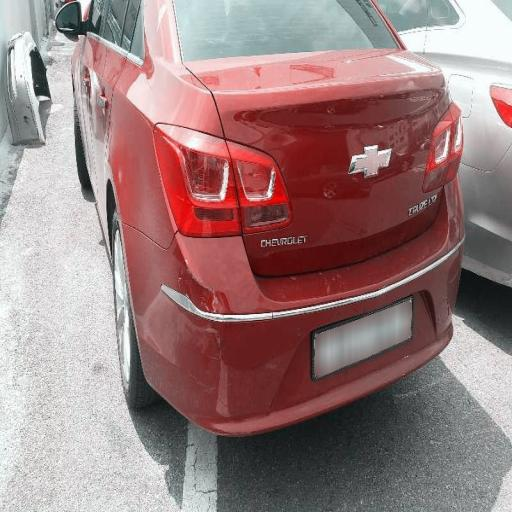scratch: (134, 55, 444, 343)
